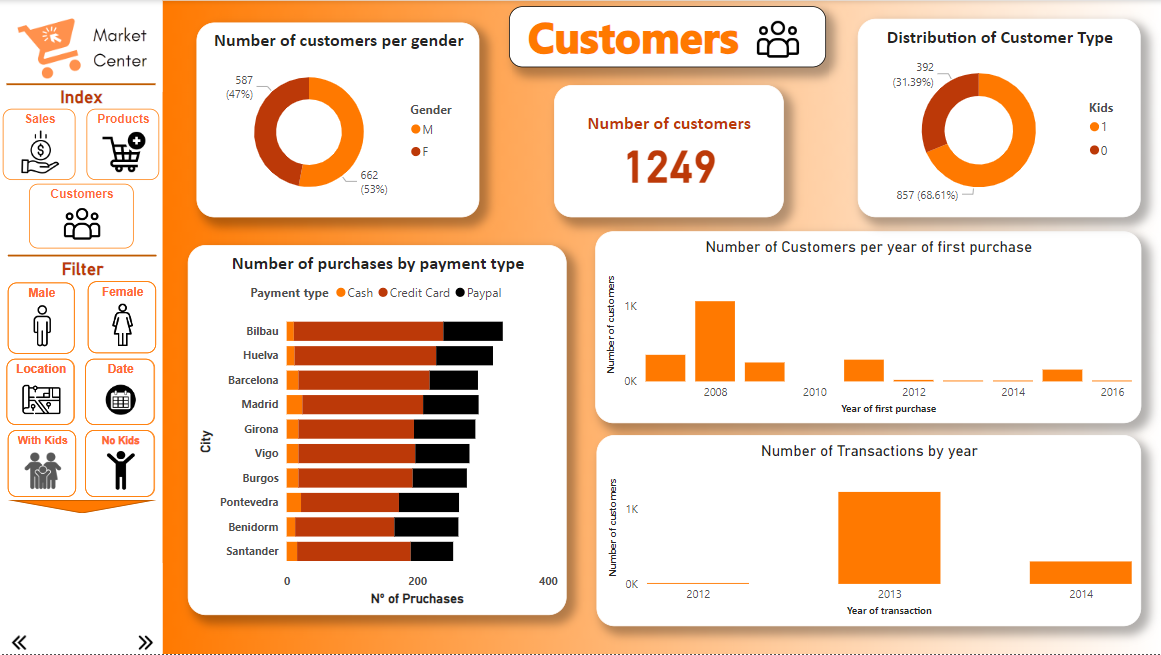

The page's visual inventory and layout, read from the dashboard file:
{"tool":"powerbi","page":{"name":"Customers","canvas":[1280,720],"ordinal":2},"visuals":[{"type":"image","box":[180,0,1100,620],"z":0},{"type":"textbox","box":[46.8,90.1,87.7,33.5],"z":1000},{"type":"image","box":[0,0,183.9,97.5],"z":2000},{"type":"image","box":[180,100,1100,620],"z":3000},{"type":"shape","box":[8.3,85.2,163.9,14.8],"z":4000},{"type":"image","title":"Sales","box":[4.2,120.1,80.3,78.1],"z":5000},{"type":"textbox","box":[48.1,280.8,87.7,33.8],"z":6000},{"type":"image","title":"Products","box":[96.8,120.1,80,78.1],"z":7000},{"type":"image","title":"Customers","box":[32.9,202.4,115.2,71.3],"z":8000},{"type":"shape","box":[10,273.4,163.8,15],"z":9000},{"type":"image","box":[140.5,688.9,43.2,31.1],"z":10000},{"type":"image","box":[0,688.9,44.2,31.1],"z":11000},{"type":"shape","box":[10,550.5,163.7,14.7],"z":12000},{"type":"textbox","title":"Customers","box":[561.2,6.2,348.8,67.5],"z":13000},{"type":"image","box":[820.7,14.4,72.2,56.3],"z":14000},{"type":"cardVisual","fields":{"Data":["Count(temp1671068008898978552.cust_id)"]},"box":[610,92.9,252.9,145.7],"z":15000},{"type":"barChart","title":"Number of purchases by payment type","fields":{"Category":["temp1671068008898978552.city"],"Y":["Count(temp1671068008898978552.transaction_id)"],"Series":["temp1671068008898978552.Payment_type"]},"box":[207.1,270,417.1,407.1],"z":16000},{"type":"columnChart","title":"Number of Customers per year of first purchase","fields":{"Y":["Count(temp1671068008898978552.cust_id)"],"Category":["temp1671068008898978552.Customer_since"]},"box":[655.4,254.2,600.4,211.6],"z":17000},{"type":"donutChart","title":"Number of customers per gender","fields":{"Y":["Count(temp1671068008898978552.cust_id)"],"Category":["temp1671068008898978552.Gender"]},"box":[217.1,24.3,311.4,214.3],"z":18000},{"type":"donutChart","title":"Distribution of Customer Type","fields":{"Y":["Count(temp1671068008898978552.cust_id)"],"Category":["temp1671068008898978552.Kids"]},"box":[944.3,20,311.4,218.6],"z":19000},{"type":"image","title":"Date","box":[95.6,395,76.1,72.8],"z":22000},{"type":"image","title":"Date","box":[95.1,395.1,76.9,73.1],"z":23000},{"type":"image","title":"Location","box":[8.9,395,74.4,72.8],"z":24000},{"type":"image","title":"Location","box":[8.3,395.1,75.4,72.9],"z":25000},{"type":"image","title":"With Kids","box":[9.1,473.6,75.5,73.6],"z":26000},{"type":"image","title":"With Kids","box":[9.1,473.7,75.4,73.7],"z":27000},{"type":"image","title":"No Kids","box":[95.5,473.6,76.4,73.6],"z":28000},{"type":"image","title":"No Kids","box":[95.1,473.7,76.9,73.7],"z":29000},{"type":"image","title":"Female","box":[98.2,310,75.5,79.1],"z":30000},{"type":"image","title":"Female","box":[98.3,310,75.1,79.1],"z":31000},{"type":"image","title":"Male","box":[10,310.9,73.6,78.2],"z":32000},{"type":"image","title":"Male","box":[10,311.1,73.7,78],"z":33000},{"type":"columnChart","title":"Number of Transactions by year","fields":{"Y":["Count(temp1671068008898978552.cust_id)"],"Category":["temp1671068008898978552.tran_date.Variation.Jerarquía de fechas.Año"]},"box":[656.8,478.1,599.1,210.2],"z":34000}]}

Visuals, with their boxes in screenshot pixels (x1, y1, x2, y2), scaled from the page's 1280x720 canvas onto the 1161x655 screenshot:
image: [163, 0, 1160, 564]
textbox: [42, 82, 122, 112]
image: [0, 0, 167, 89]
image: [163, 91, 1160, 654]
shape: [8, 78, 156, 91]
"Sales" image: [4, 109, 77, 180]
textbox: [44, 255, 123, 286]
"Products" image: [88, 109, 160, 180]
"Customers" image: [30, 184, 134, 249]
shape: [9, 249, 158, 262]
image: [127, 627, 167, 654]
image: [0, 627, 40, 654]
shape: [9, 501, 158, 514]
"Customers" textbox: [509, 6, 825, 67]
image: [744, 13, 810, 64]
cardVisual - Count(temp1671068008898978552.cust_id): [553, 85, 783, 217]
"Number of purchases by payment type" barChart: [188, 246, 566, 616]
"Number of Customers per year of first purchase" columnChart: [594, 231, 1139, 424]
"Number of customers per gender" donutChart: [197, 22, 479, 217]
"Distribution of Customer Type" donutChart: [857, 18, 1139, 217]
"Date" image: [87, 359, 156, 426]
"Date" image: [86, 359, 156, 426]
"Location" image: [8, 359, 76, 426]
"Location" image: [8, 359, 76, 426]
"With Kids" image: [8, 431, 77, 498]
"With Kids" image: [8, 431, 77, 498]
"No Kids" image: [87, 431, 156, 498]
"No Kids" image: [86, 431, 156, 498]
"Female" image: [89, 282, 158, 354]
"Female" image: [89, 282, 157, 354]
"Male" image: [9, 283, 76, 354]
"Male" image: [9, 283, 76, 354]
"Number of Transactions by year" columnChart: [596, 435, 1139, 626]
